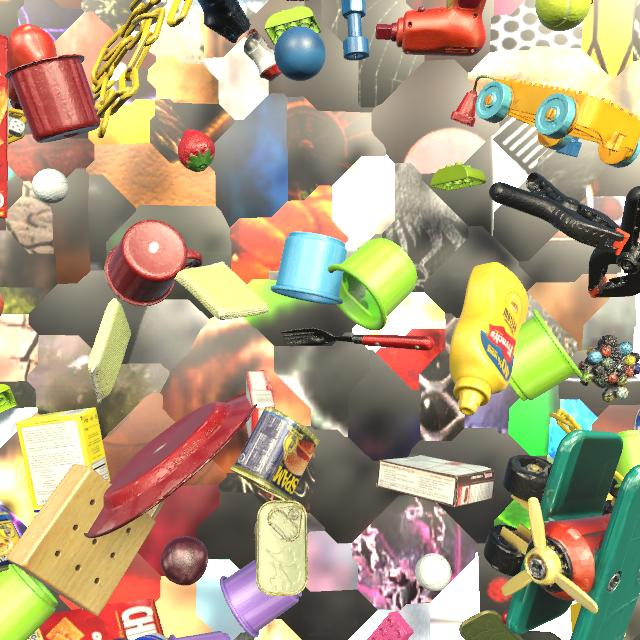ycb_002_master_chef_can: (135, 632, 168, 640)
ycb_003_cracker_box: (27, 598, 164, 640), (0, 35, 9, 218)
ycb_004_sugar_box: (16, 407, 110, 517)
ycb_006_mustard_bottle: (449, 262, 529, 415)
ycb_007_tuna_fish_can: (633, 408, 640, 434)
ycb_008_pudding_box: (376, 455, 495, 507)
ycb_009_gelatin_box: (246, 370, 275, 437)
ycb_010_potted_meat_can: (229, 407, 319, 501), (255, 500, 308, 596), (0, 512, 30, 576), (459, 610, 523, 640)
ycb_012_strawberry: (178, 129, 215, 172)
ycb_017_orange: (0, 292, 4, 316)
ycb_018_plum: (161, 536, 208, 586), (113, 637, 129, 640)
